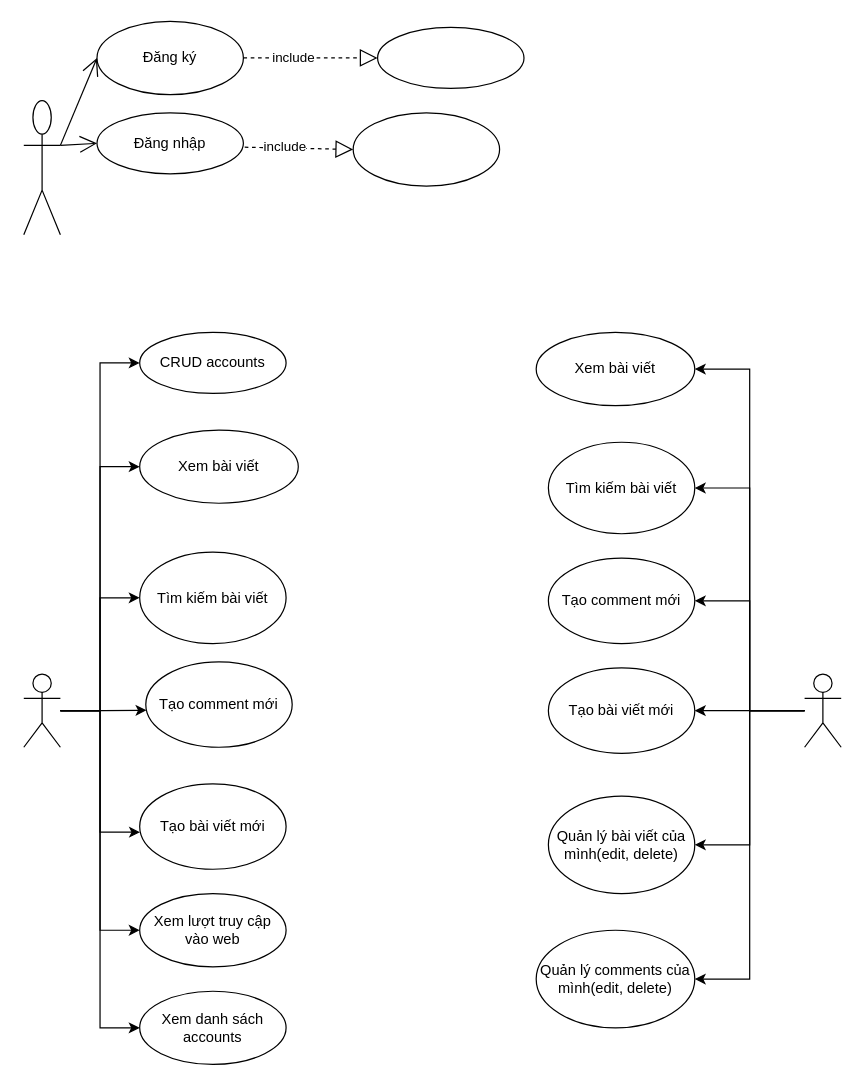
This 863x1086 diagram has some shape labels left out. The shapes that lost their labels are listed below. From the top down, each one's centre as x and y in pixels, then its label:
At [450,57]: "verify password active Email".
At [41,167]: "Guest".
At [426,149]: "forgot password?".
At [41,710]: "Admin".
At [822,710]: "User".
